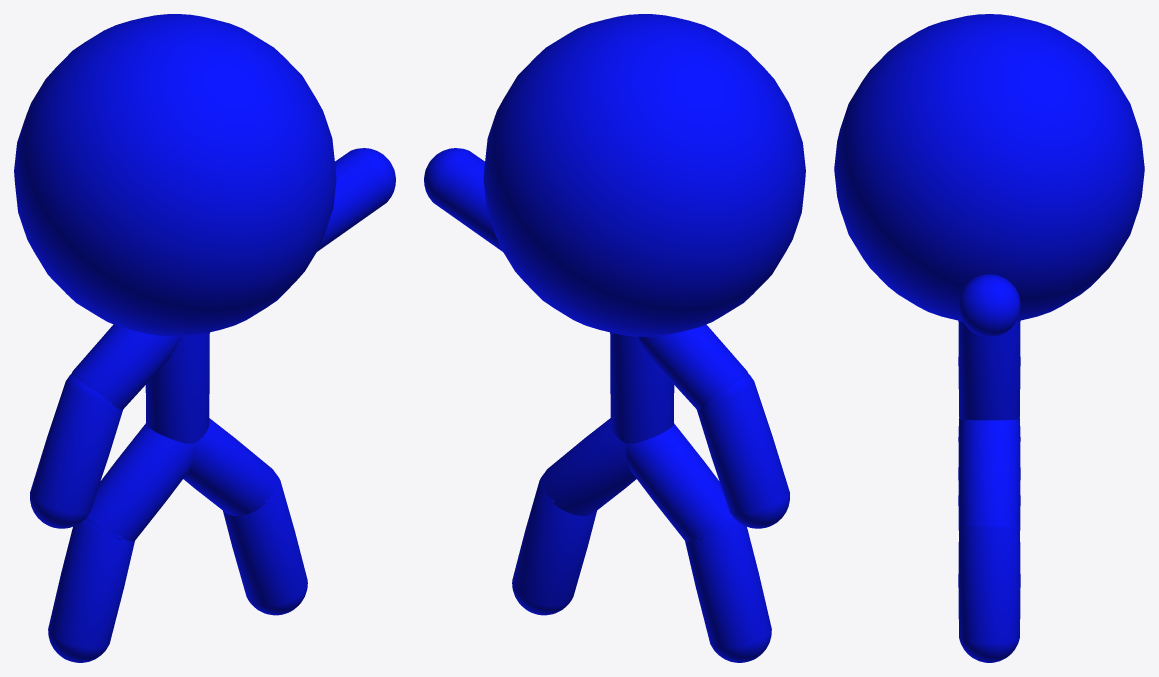
The model's file is StickMan_HandUp.obj.
The picture shows the model from 3 angles, left to right: view 1: azimuth 30°, elevation 25°; view 2: azimuth 150°, elevation 25°; view 3: azimuth 270°, elevation 25°; orthographic projection. The views are drawn at different scales.
Parts seen in each view (by area): view 1: 球.045, 球.053, 球.051, 球.050, 球.052, 球.047, 球.049, 球.048, 球.046; view 2: 球.045, 球.053, 球.051, 球.050, 球.052, 球.047, 球.049, 球.048, 球.046; view 3: 球.045, 球.052, 球.049, 球.047, 球.046.
Part boxes in pixels (x1,y1,x2,y2): 球.045: [14, 14, 336, 336]; 球.053: [30, 374, 122, 528]; 球.051: [48, 520, 134, 662]; 球.050: [84, 423, 193, 541]; 球.052: [223, 473, 307, 615]; 球.047: [145, 332, 209, 443]; 球.049: [183, 418, 277, 515]; 球.048: [71, 324, 181, 409]; 球.046: [317, 148, 395, 251]; 球.045: [483, 14, 805, 336]; 球.053: [697, 374, 789, 528]; 球.051: [685, 520, 771, 662]; 球.050: [626, 423, 735, 541]; 球.052: [512, 473, 596, 615]; 球.047: [610, 332, 674, 443]; 球.049: [542, 418, 636, 515]; 球.048: [638, 324, 748, 409]; 球.046: [424, 148, 502, 251]; 球.045: [834, 14, 1144, 321]; 球.052: [958, 521, 1020, 662]; 球.049: [958, 419, 1020, 527]; 球.047: [958, 320, 1020, 420]; 球.046: [958, 274, 1020, 337].
Size of the model in its own units: 12.78 by 20.76 by 10.
